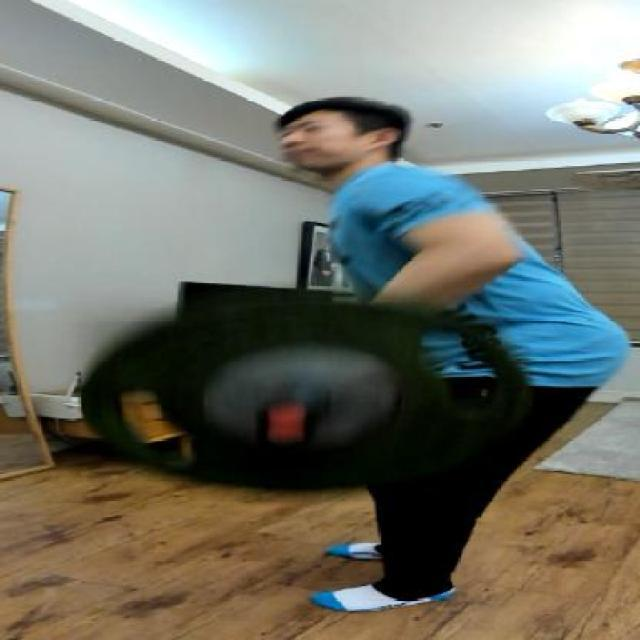barbell: (69, 278, 576, 516)
